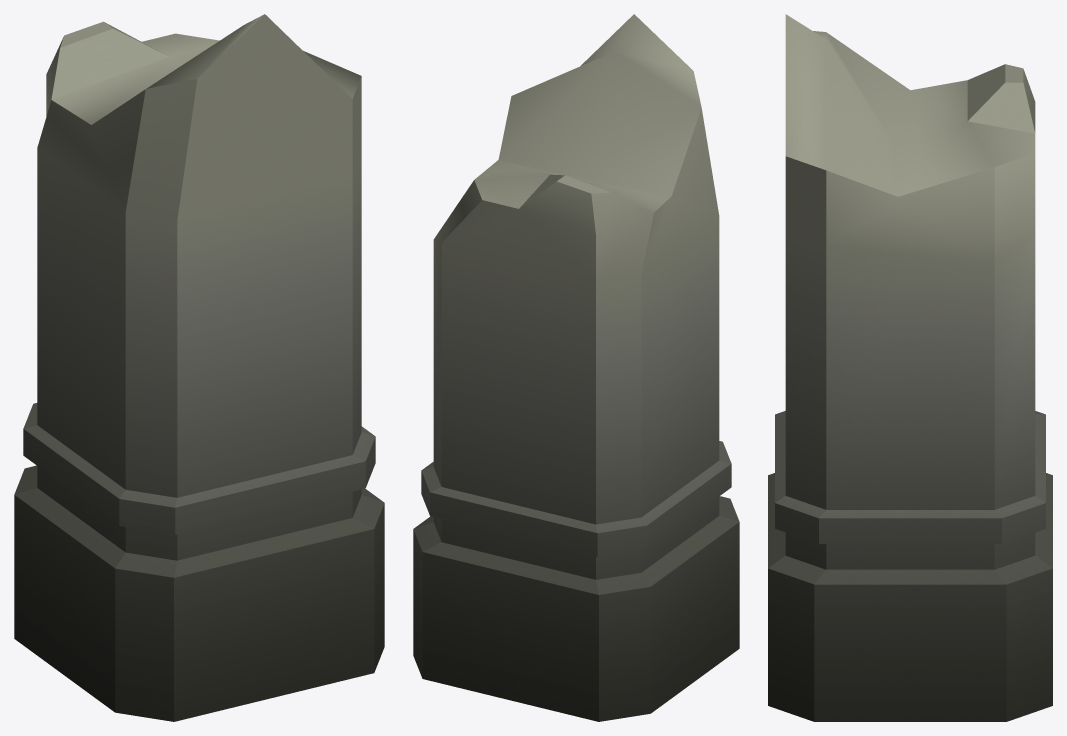
File: ruin01.fbx
3 views of the same model, side by side, from view 1: azimuth 30°, elevation 25°; view 2: azimuth 150°, elevation 25°; view 3: azimuth 270°, elevation 25° (orthographic). The views are drawn at different scales.
Visible parts, largest first — view 1: ruin01; view 2: ruin01; view 3: ruin01.
Boxes of the visible parts, left/top/right/bottom form: ruin01: left=14, top=14, right=384, bottom=721; ruin01: left=413, top=14, right=739, bottom=721; ruin01: left=768, top=14, right=1052, bottom=721.
Bounding box in the file's own units: 1.34 × 3.25 × 1.29.
